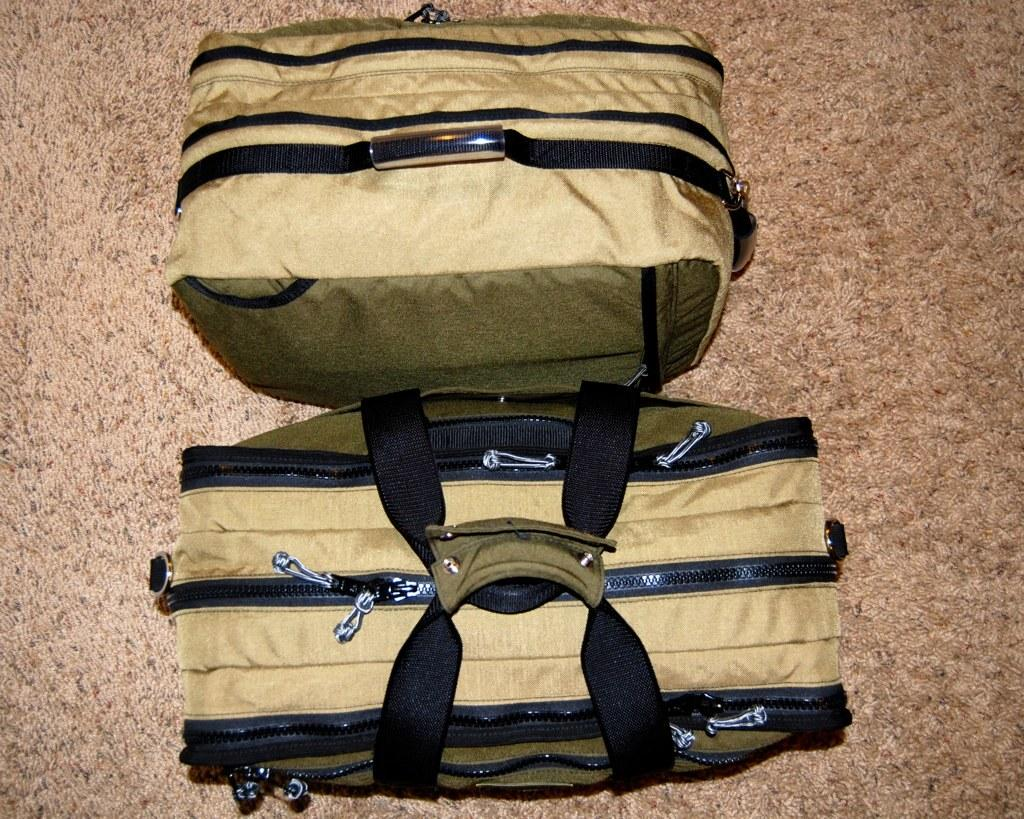Luggage-and-bags: (143, 409, 789, 819), (161, 4, 759, 413)
